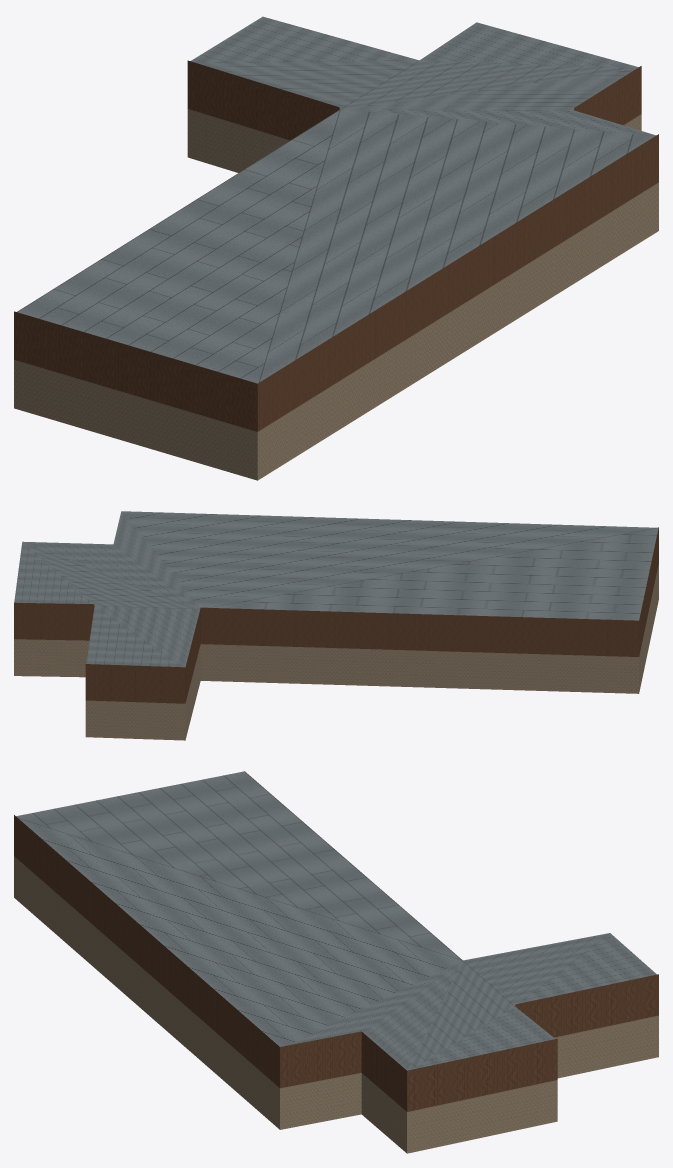
File: core_0154.gltf
3 views of the same model, one above another, from view 1: azimuth 30°, elevation 25°; view 2: azimuth 150°, elevation 25°; view 3: azimuth 270°, elevation 25° (orthographic). The views are drawn at different scales.
Visible parts, largest first — view 1: core_0154; view 2: core_0154; view 3: core_0154.
Boxes of the visible parts, x1,y1,x2,y2 form: core_0154: (14, 16, 658, 480); core_0154: (14, 511, 658, 740); core_0154: (14, 771, 658, 1153).
Bounding box in the file's own units: 77.74 × 9.98 × 70.3.
Materials: 3 (3 with a texture image).
